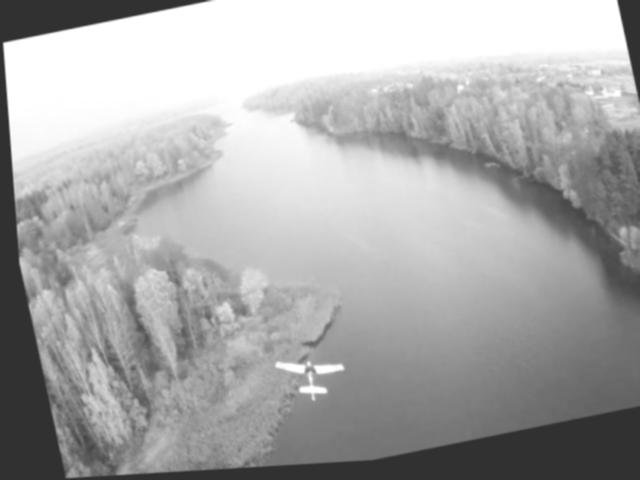hedef: (262, 340, 351, 422)
